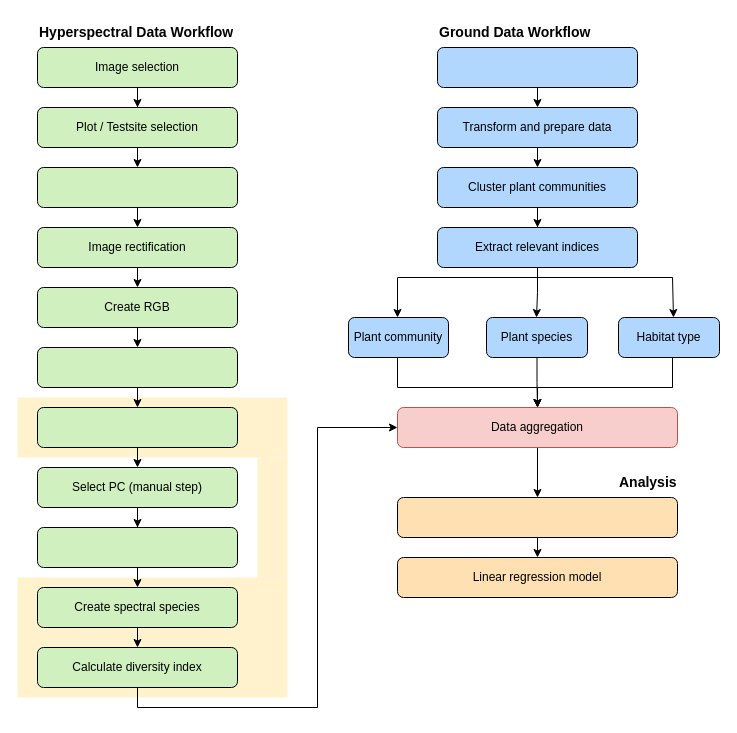
Image size: 737x733. Some labels were removed from this diagram. The centre of each missing label's shape, as x and y in pixels:
biodivMapR: point (272, 517)
Cluster analysis: point (137, 547)
Create SAVI masks: point (137, 367)
Crop to plot extent + buffer: point (137, 187)
Extract plot data from Turboveg: point (537, 67)
Pearson correlation analysis: point (537, 517)
Perform PCA: point (137, 427)
